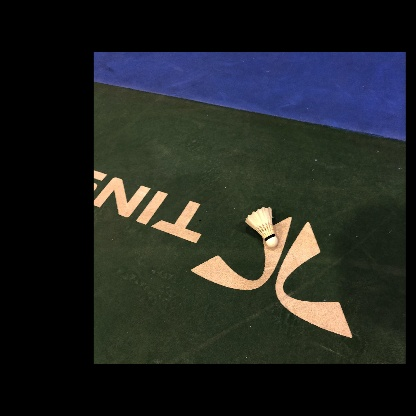ball_single: (245, 207, 278, 248)
